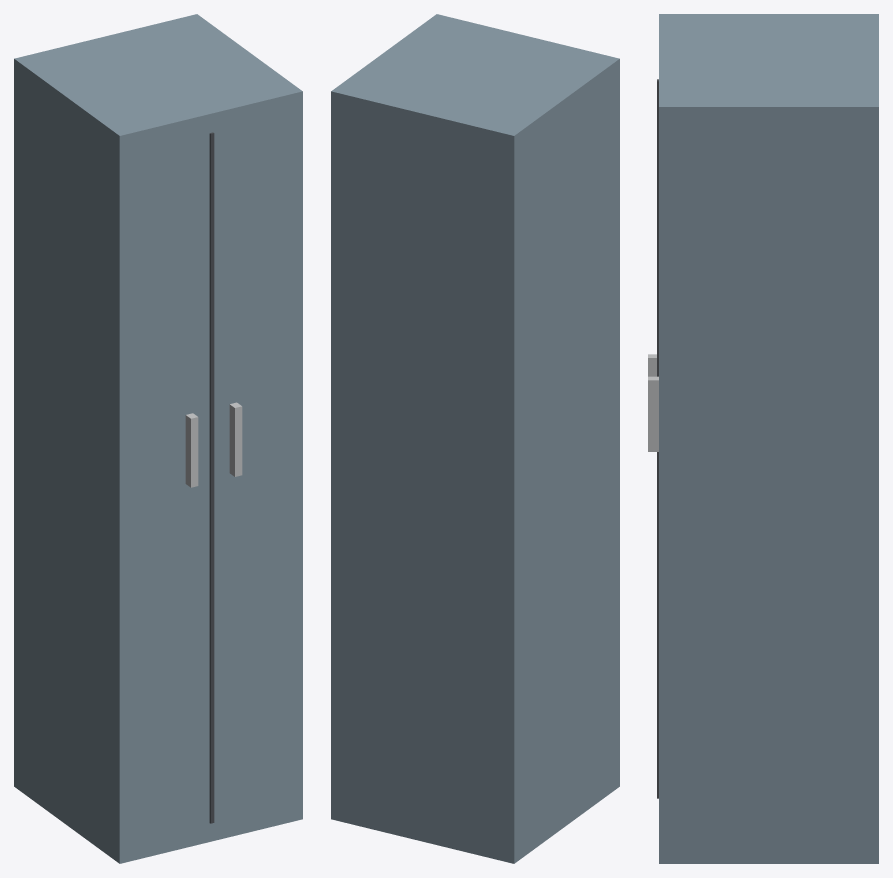
The model's file is 1771-Furniture-interiors-locker.glb.
The picture shows the model from 3 angles, left to right: view 1: azimuth 30°, elevation 25°; view 2: azimuth 150°, elevation 25°; view 3: azimuth 270°, elevation 25°; orthographic projection. The views are drawn at different scales.
Visible parts, largest first — view 1: Furniture (interiors)/locker; view 2: Furniture (interiors)/locker; view 3: Furniture (interiors)/locker.
Part boxes in pixels (x1=…): Furniture (interiors)/locker: x1=14, y1=14, x2=302, y2=863; Furniture (interiors)/locker: x1=331, y1=14, x2=619, y2=863; Furniture (interiors)/locker: x1=648, y1=14, x2=878, y2=863.
Bounding box in the file's own units: 0.5 × 1.9 × 0.525.
